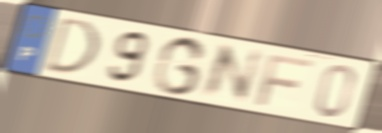0: (312, 63, 358, 120)
9: (105, 29, 153, 86)
D: (40, 15, 102, 77)
F: (253, 52, 316, 109)
G: (150, 34, 209, 97)
N: (196, 42, 266, 104)
